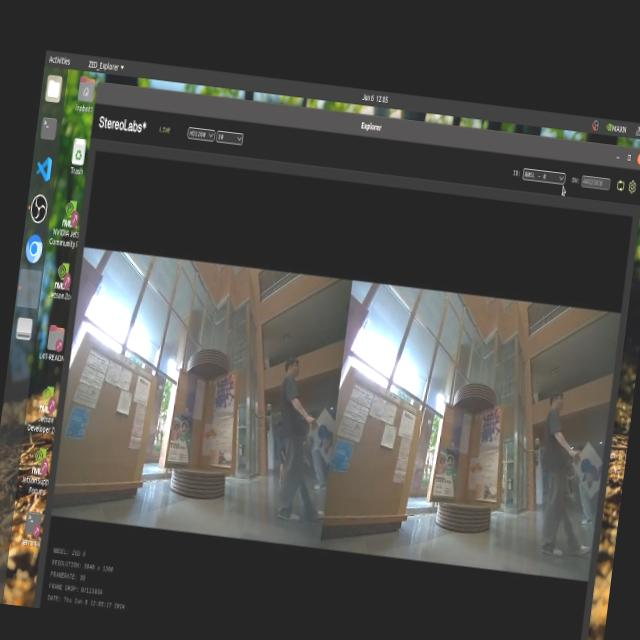blue: (574, 438, 608, 497), (317, 424, 333, 459)
